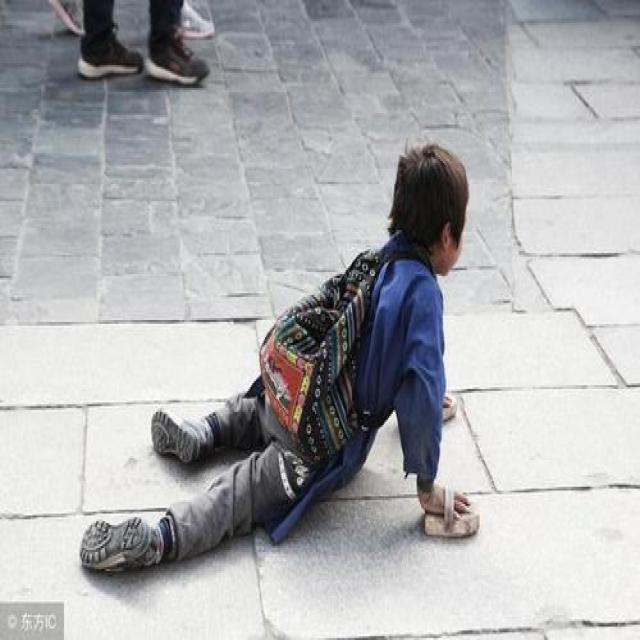fall: (88, 142, 508, 575)
